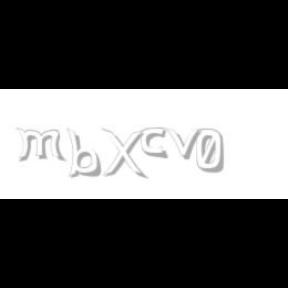0: (197, 128, 228, 174)
X: (101, 128, 145, 180)
b: (66, 128, 104, 178)
c: (140, 128, 170, 160)
m: (15, 128, 67, 162)
v: (165, 128, 205, 160)
